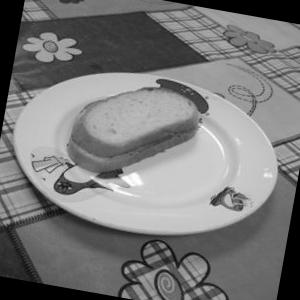bread: (63, 70, 216, 188)
